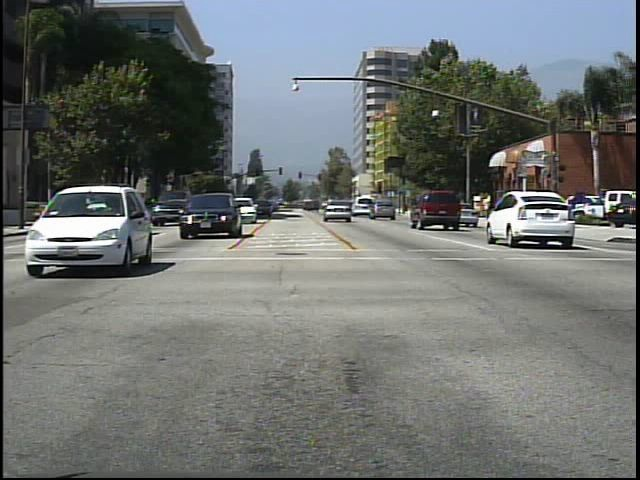person: (439, 192, 458, 226), (477, 190, 496, 221)
